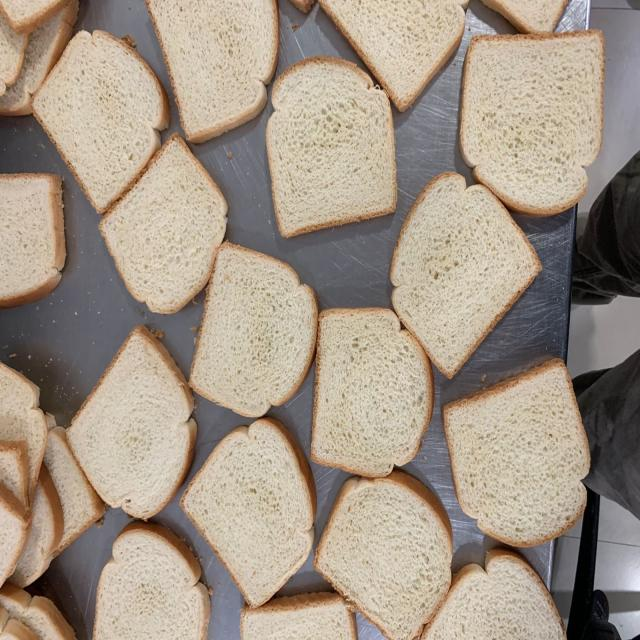pan: (390, 172, 542, 379), (441, 358, 590, 547), (459, 30, 605, 216), (181, 416, 316, 609), (30, 30, 170, 215), (66, 327, 197, 522), (266, 56, 397, 238), (315, 471, 453, 640), (99, 135, 228, 314), (189, 241, 318, 418), (311, 309, 435, 478)
